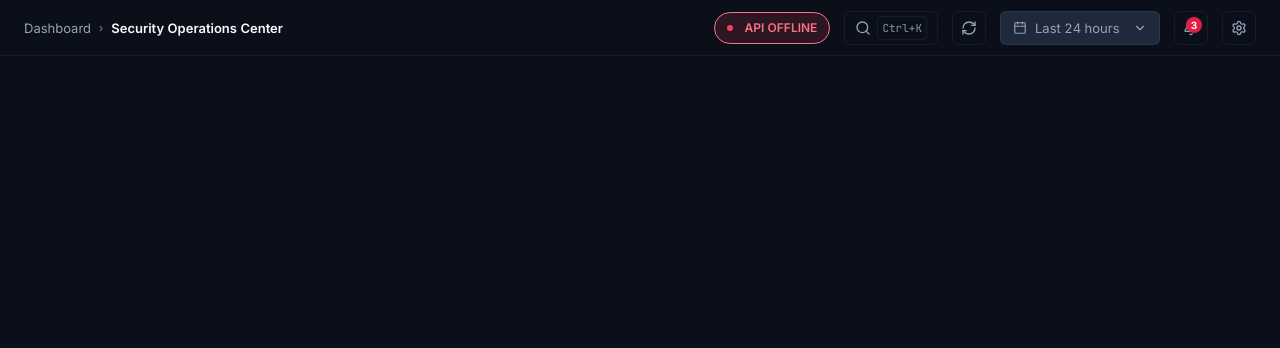
Test: status pill › hovering the pill opens the Connection Diagnostics tooltip
The width and height of the screenshot is (1280, 348).
Hover over the button "Connecting to inference API…" at (772, 28), box x1=714 y1=12 x2=830 y2=44
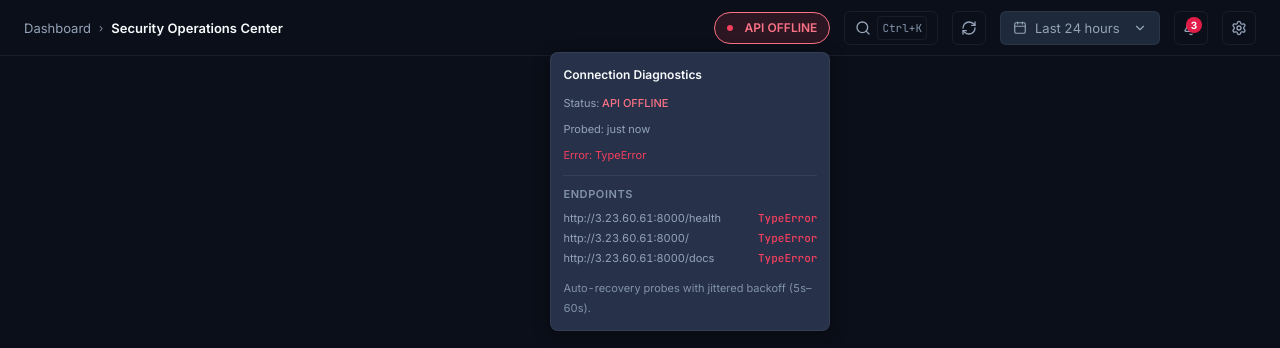
Check: the tooltip shows "Connection Diagnostics", box x1=563 y1=66 x2=702 y2=82
Move the pointer off the button "Connecting to inference API…", box x1=714 y1=12 x2=830 y2=44
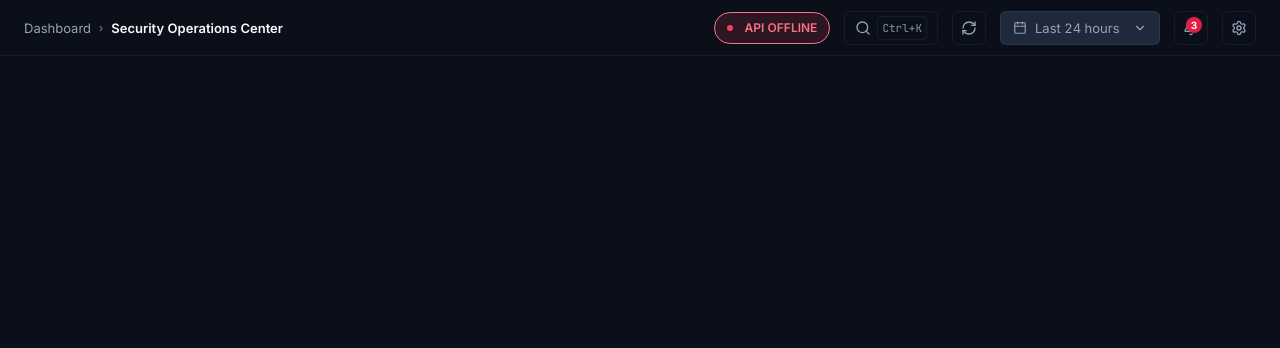
Check: the tooltip is gone
